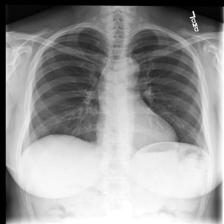normal: (24, 23, 208, 157)
